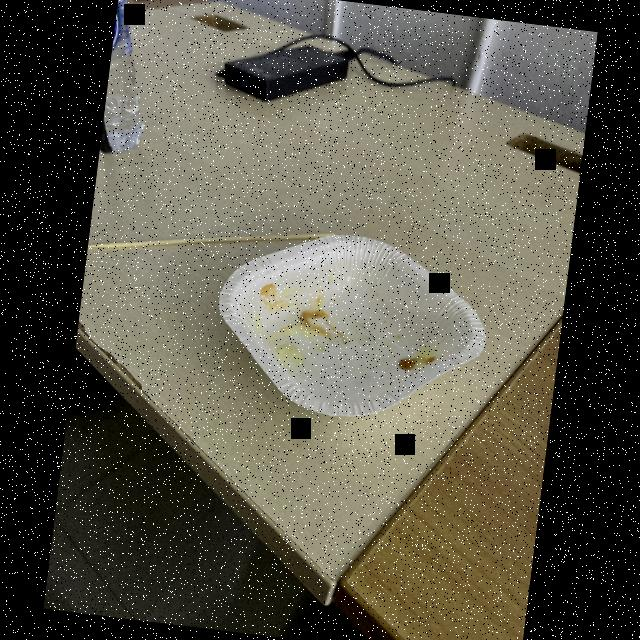cardboard_bowl: (202, 213, 500, 432)
stick: (88, 205, 336, 277)
